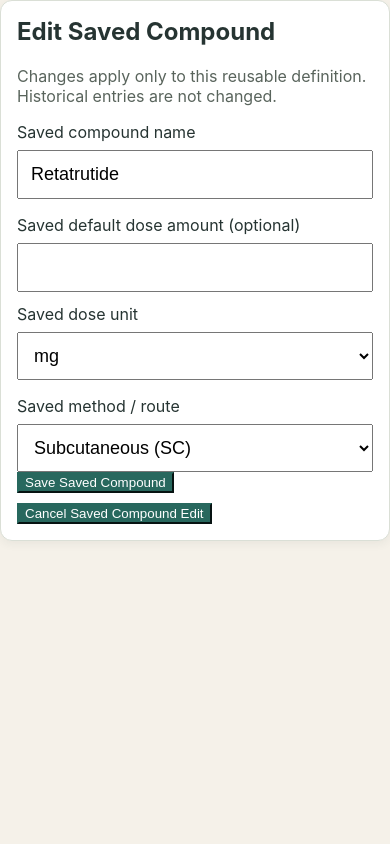
Test: shows a neutral catalog collision error and stays open
What coordinates should you click on to do the following:
click the button "Save Saved Compound"
I would click on:
 (95, 482)
Its box is x1=17 y1=472 x2=174 y2=493.
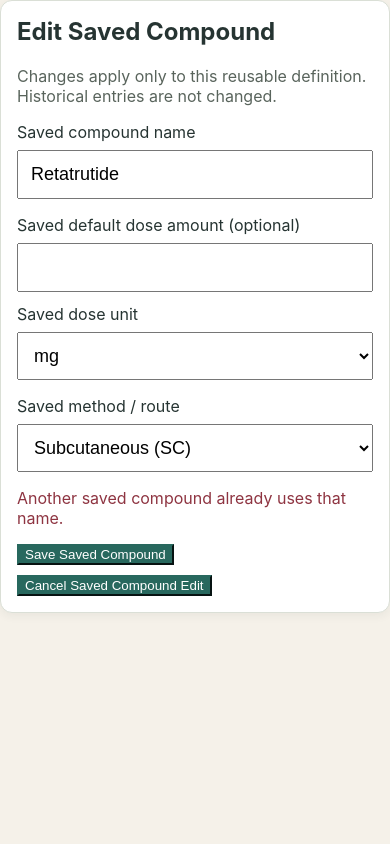
Now the message reads "Another saved compound already uses that name.", box x1=17 y1=488 x2=346 y2=528
